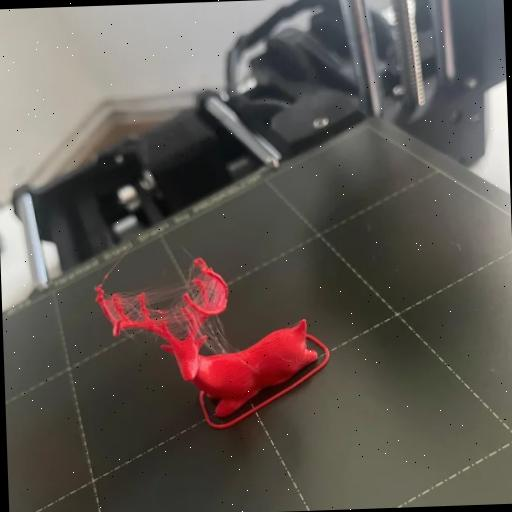stringing: (120, 282, 206, 326), (199, 316, 237, 354)
